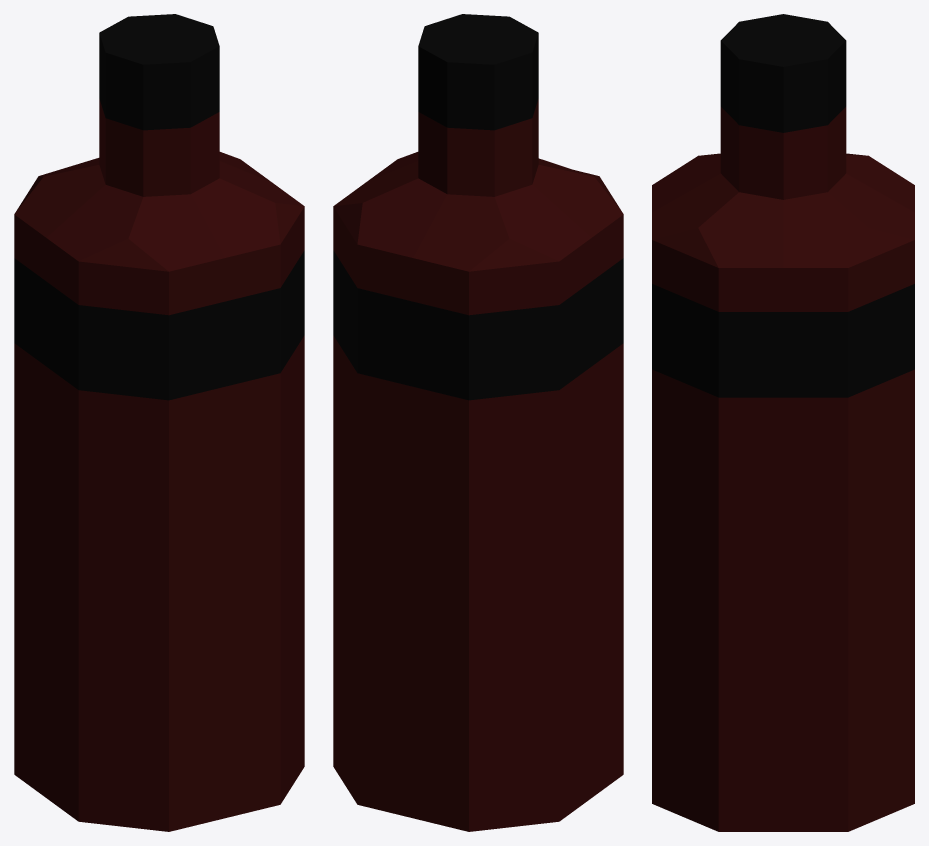
The model's file is джек бухло (высокое).fbx.
3 renders of one model, left to right at view 1: azimuth 30°, elevation 25°; view 2: azimuth 150°, elevation 25°; view 3: azimuth 270°, elevation 25°, orthographic.
Visible parts, largest first — view 1: Куб; view 2: Куб; view 3: Куб.
Boxes of the visible parts, x1,y1,x2,y2 form: Куб: (14, 14, 304, 831); Куб: (333, 14, 623, 831); Куб: (652, 14, 914, 831).
Bounding box in the file's own units: 13.2 × 40.78 × 13.2.
